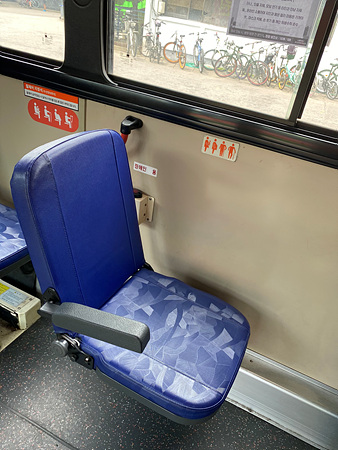seat: (12, 130, 252, 428)
